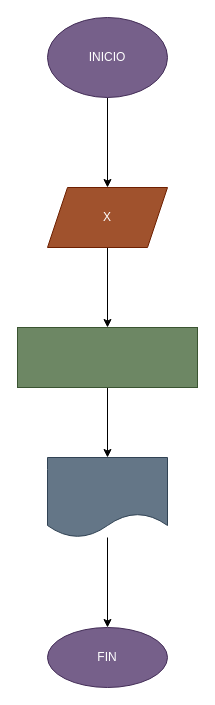
The diagram is 215 pixels wide and 705 high, and some of its shapes have lost their labels. Here are the shapes that lost their labels. From the top down, the box of each, then its label:
(16, 326, 198, 388): Z1 = X % 10 Z2 = (X % 100)/10 Z3 = (X % 1000)/100 Z4 = X - (X % 1000)/1000
(46, 456, 168, 538): Z1,Z2,Z3,Z4
